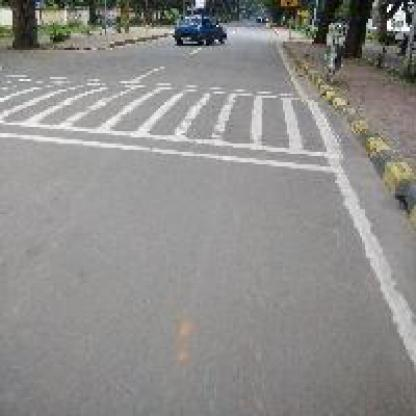Speed Bump: (0, 74, 339, 176)
